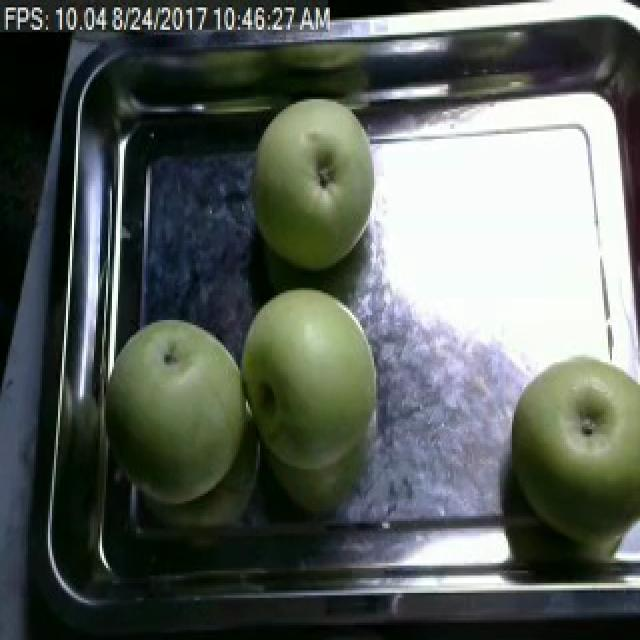50-_ripeness: (490, 343, 640, 561), (237, 281, 390, 479), (240, 93, 410, 264), (106, 295, 244, 496)
